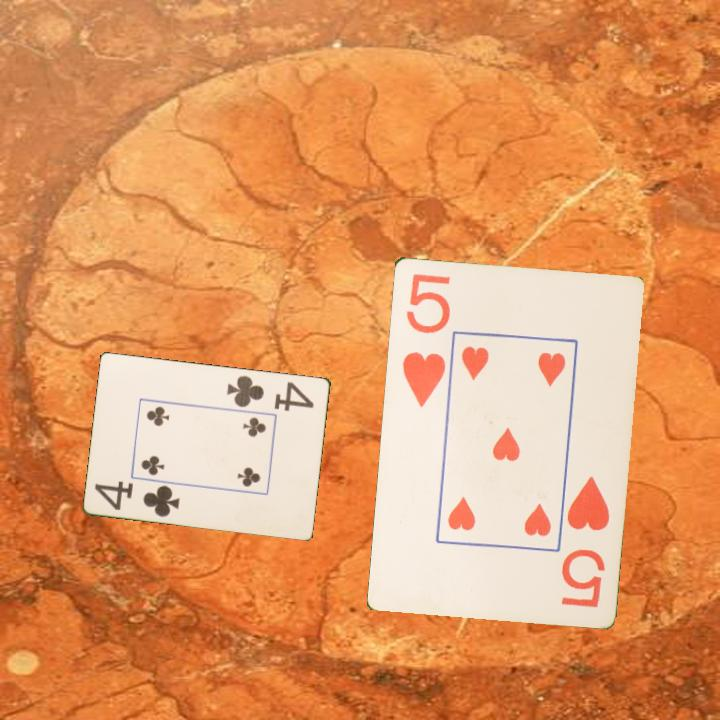4c: (224, 372, 317, 414), (92, 477, 183, 519)
5h: (398, 269, 453, 410), (557, 472, 612, 610)
